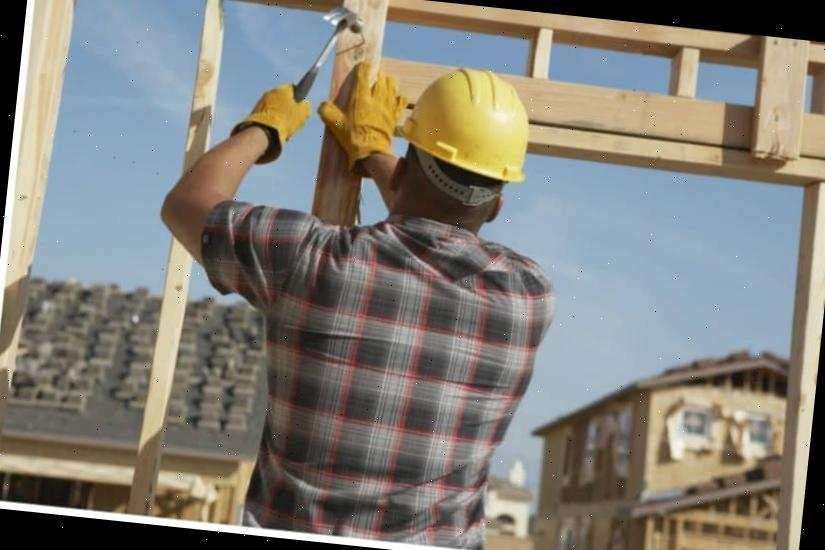helmet: (393, 61, 538, 187)
no_wear: (243, 215, 552, 550)
